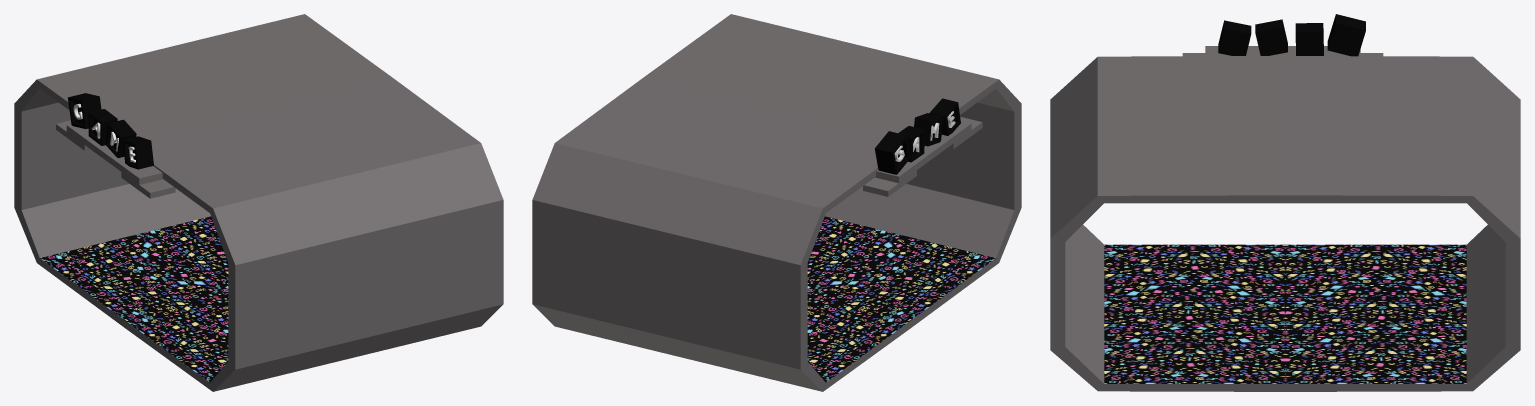
The model's file is TestBox.fbx.
3 views of the same model, side by side, from view 1: azimuth 30°, elevation 25°; view 2: azimuth 150°, elevation 25°; view 3: azimuth 270°, elevation 25° (orthographic). The views are drawn at different scales.
Parts seen in each view (by area): view 1: Plane, Cube.012, Cube.009, Cube.011, Cube.017; view 2: Plane, Cube.009, Cube.012, Cube.011, Cube.017; view 3: Plane, Cube.009, Cube.011, Cube.012, Cube.017.
Boxes of the visible parts, x1,y1,x2,y2 form: Plane: [14, 14, 503, 391]; Cube.012: [122, 136, 153, 169]; Cube.009: [67, 93, 101, 128]; Cube.011: [105, 119, 136, 158]; Cube.017: [88, 109, 117, 145]; Plane: [532, 14, 1021, 391]; Cube.009: [874, 131, 910, 174]; Cube.012: [929, 98, 960, 135]; Cube.011: [914, 113, 943, 146]; Cube.017: [898, 126, 924, 162]; Plane: [1050, 46, 1520, 391]; Cube.009: [1327, 14, 1365, 56]; Cube.011: [1255, 19, 1287, 55]; Cube.012: [1218, 20, 1251, 55]; Cube.017: [1295, 23, 1323, 55].
Size of the model in its own units: 2295 by 1617 by 3017.
